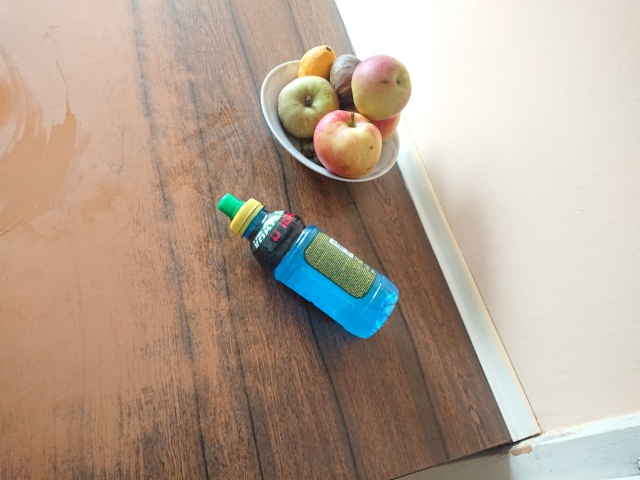Vindi Iso Sport Forest Strawberries 500mL: (215, 190, 400, 341)
